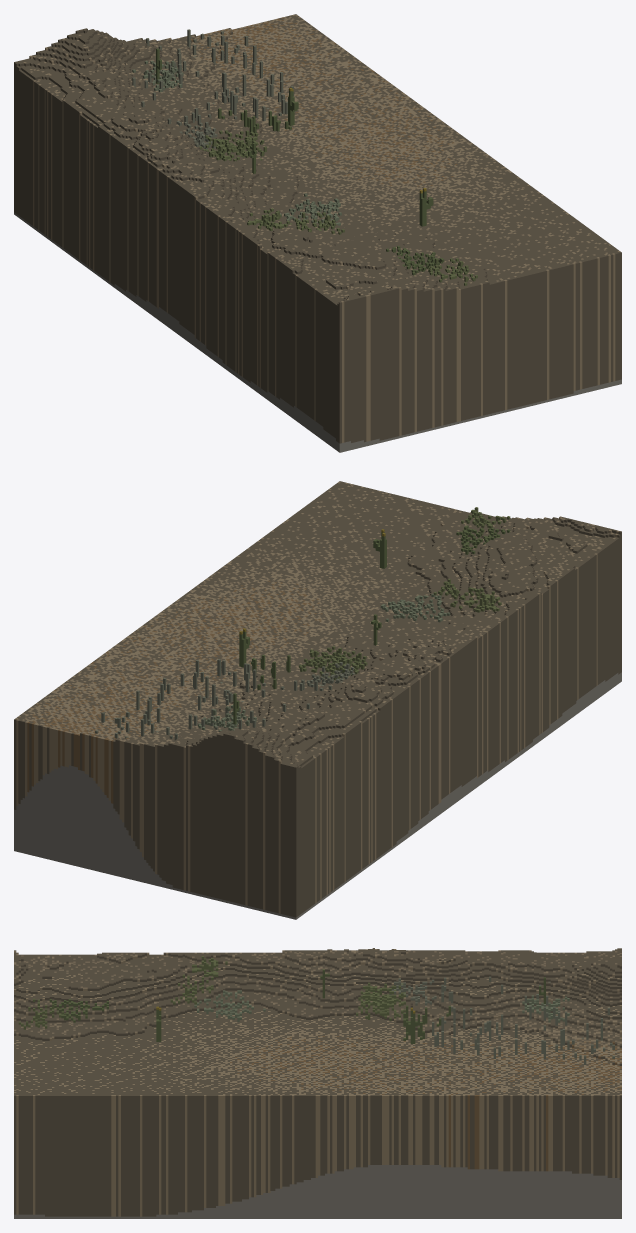
File: Combined Desert(2)-7-tile 7.obj
3 views of the same model, one above another, from view 1: azimuth 30°, elevation 25°; view 2: azimuth 150°, elevation 25°; view 3: azimuth 270°, elevation 25° (orthographic). The views are drawn at different scales.
Parts seen in each view (by area): view 1: tile 7; view 2: tile 7; view 3: tile 7.
Part boxes in pixels (x1,y1,x2,y2): tile 7: (14,14,621,452); tile 7: (14,481,621,919); tile 7: (14,948,621,1218).
Bounding box in the file's own units: 12.8 × 7.4 × 25.6.
Materials: 1 (1 with a texture image).
